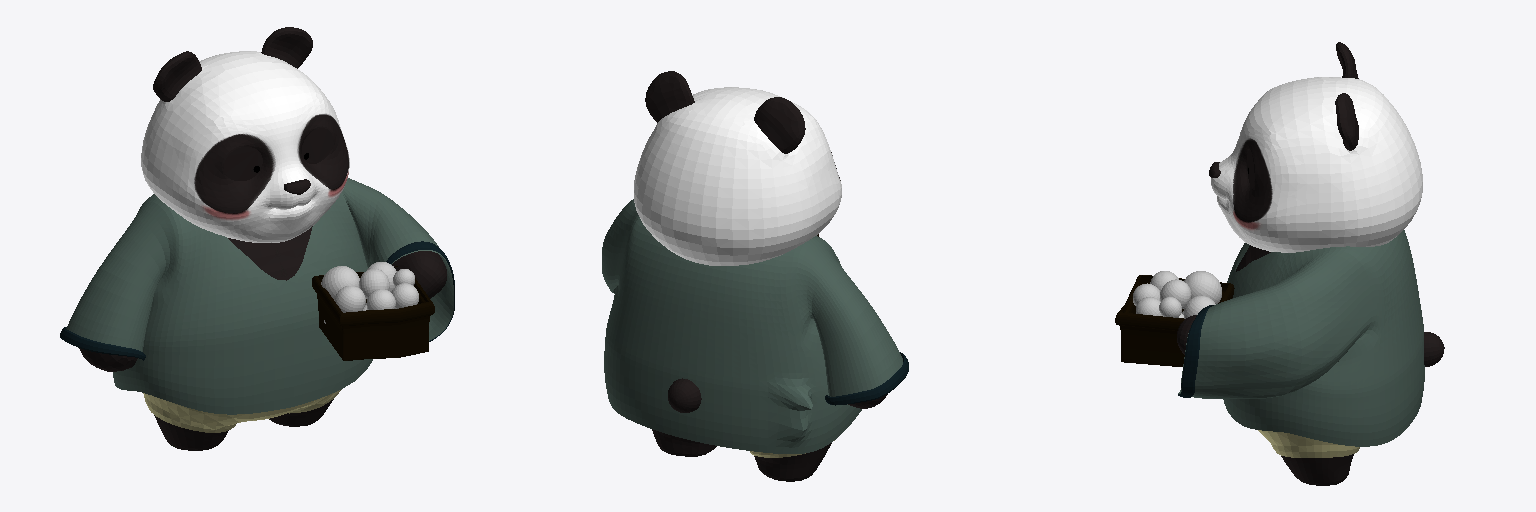
The picture shows the model from 3 angles: view 1: azimuth 30°, elevation 25°; view 2: azimuth 150°, elevation 25°; view 3: azimuth 270°, elevation 25°; orthographic projection.
Parts seen in each view (by area): view 1: panda_body007.060, panda_body007.061, 立方体.011, Fruits_and_vegetables.001, panda_body007.059, panda_body007.058, panda_body007.053, panda_body007.057, panda_body007.054; view 2: panda_body007.060, panda_body007.061, panda_body007.058, panda_body007.057; view 3: panda_body007.060, panda_body007.061, 立方体.011, Fruits_and_vegetables.001, panda_body007.059, panda_body007.058, panda_body007.054.
Boxes of the visible parts, x1,y1,x2,y2 form: panda_body007.060: [66, 178, 453, 414]; panda_body007.061: [79, 27, 349, 371]; 立方体.011: [312, 266, 434, 360]; Fruits_and_vegetables.001: [321, 262, 418, 312]; panda_body007.059: [143, 389, 341, 432]; panda_body007.058: [154, 399, 333, 450]; panda_body007.053: [392, 251, 446, 298]; panda_body007.057: [60, 327, 145, 360]; panda_body007.054: [386, 241, 454, 341]; panda_body007.060: [602, 199, 902, 453]; panda_body007.061: [634, 71, 887, 412]; panda_body007.058: [652, 429, 831, 481]; panda_body007.057: [825, 352, 908, 405]; panda_body007.060: [1178, 230, 1424, 446]; panda_body007.061: [1209, 42, 1444, 366]; 立方体.011: [1115, 275, 1234, 366]; Fruits_and_vegetables.001: [1133, 271, 1221, 318]; panda_body007.059: [1258, 430, 1359, 457]; panda_body007.058: [1281, 454, 1353, 485]; panda_body007.054: [1178, 305, 1213, 397].
Size of the model in its own units: 7.48 by 8.48 by 6.63.
8 materials, 1 textured.